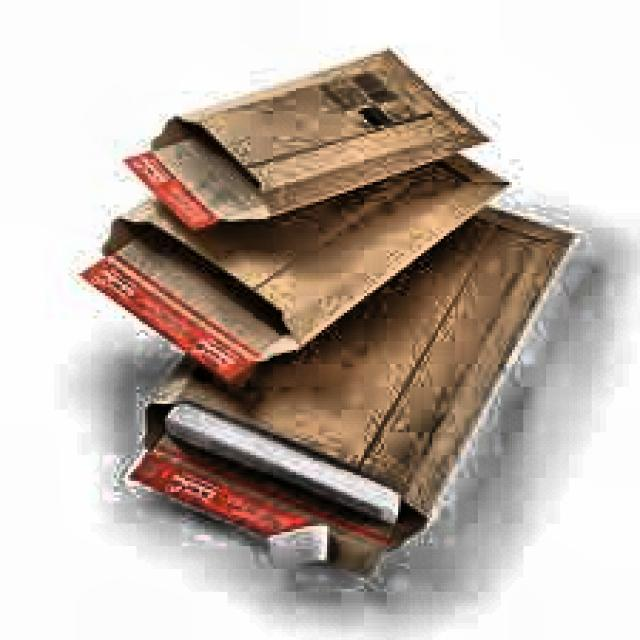cardboard: (128, 200, 575, 574)
